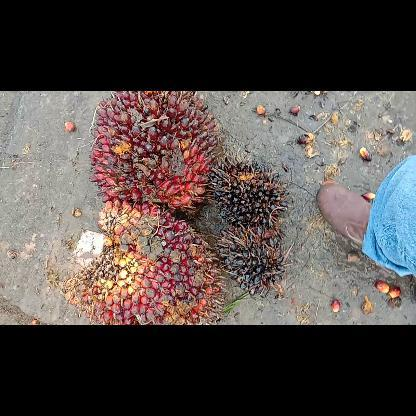TBS abnormal: (207, 149, 292, 227), (215, 220, 287, 298)
TBS masak: (58, 198, 230, 324), (88, 91, 220, 219)
